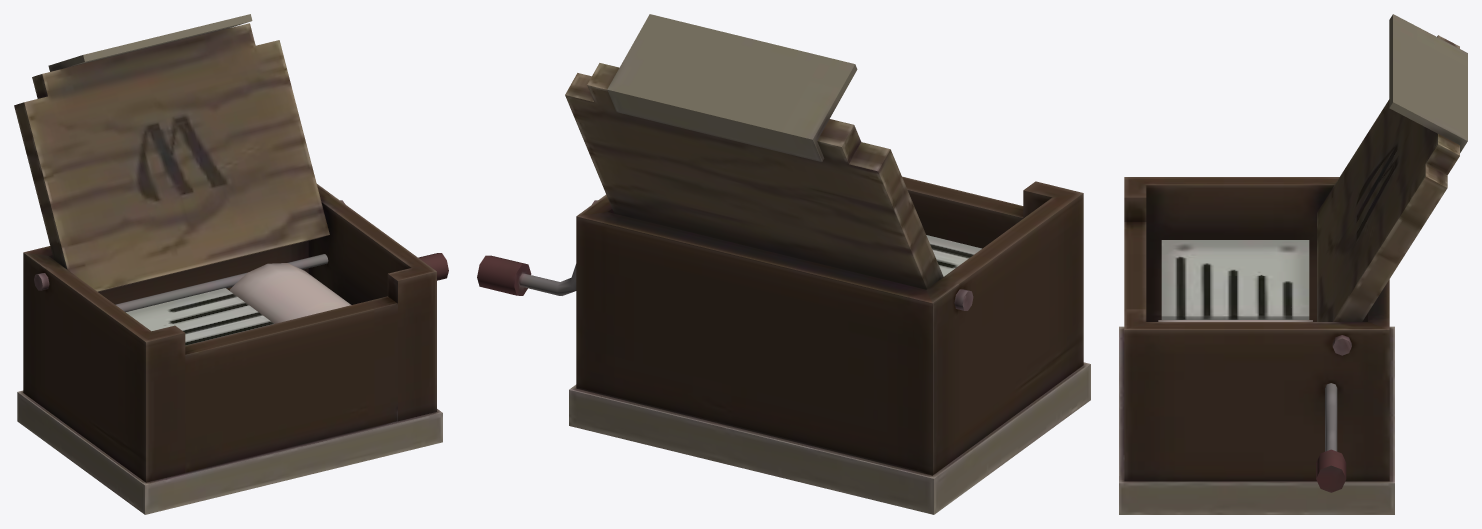
The model's file is jugu_music_box_prop.glb.
The picture shows the model from 3 angles, left to right: view 1: azimuth 30°, elevation 25°; view 2: azimuth 150°, elevation 25°; view 3: azimuth 270°, elevation 25°; orthographic projection. The views are drawn at different scales.
Visible parts, largest first — view 1: Box_MusicBox_Mat_0; view 2: Box_MusicBox_Mat_0; view 3: Box_MusicBox_Mat_0.
Part boxes in pixels (x1,y1,x2,y2): Box_MusicBox_Mat_0: [14, 14, 448, 514]; Box_MusicBox_Mat_0: [477, 14, 1090, 514]; Box_MusicBox_Mat_0: [1119, 14, 1467, 514].
Bounding box in the file's own units: 0.2138 × 0.18 × 0.1503.
1 material, 1 textured.
